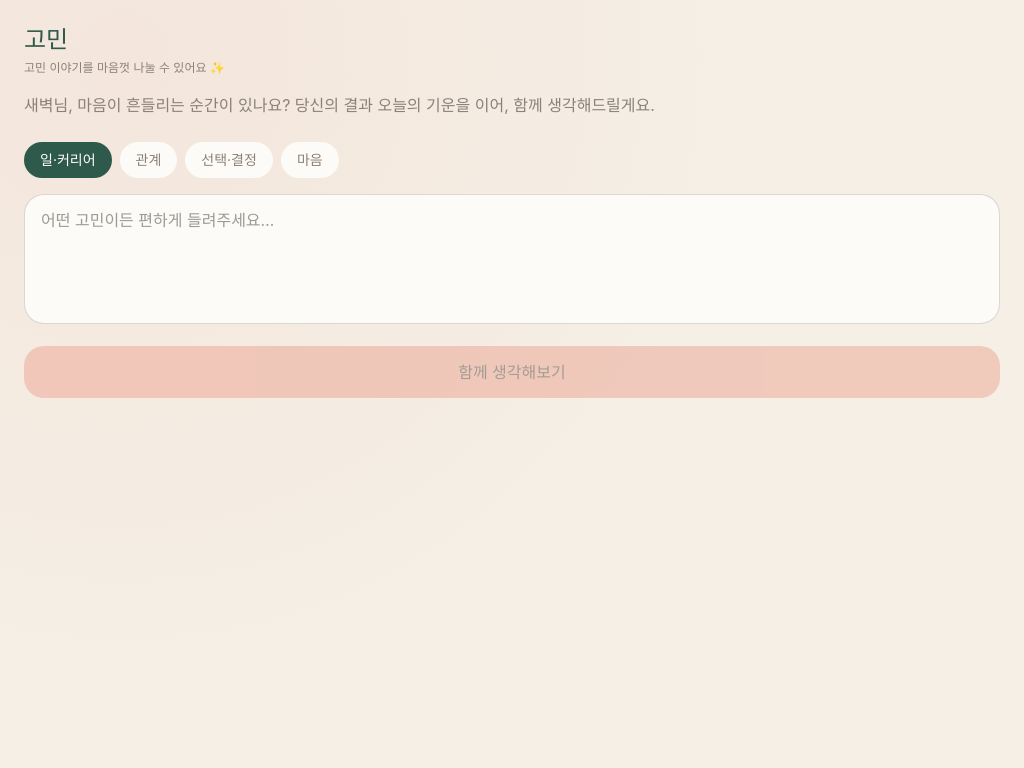
Test: ConcernRoom — 익명 로컬 기록 › 제출하면 프로필 맥락과 함께 submitConcern을 부르고 조언을 렌더한다
The width and height of the screenshot is (1024, 768).
Type "이직 고민" into the text box with placeholder "어떤 고민이든 편하게 들려주세요…" at (512, 259), box [24,194,1000,324]
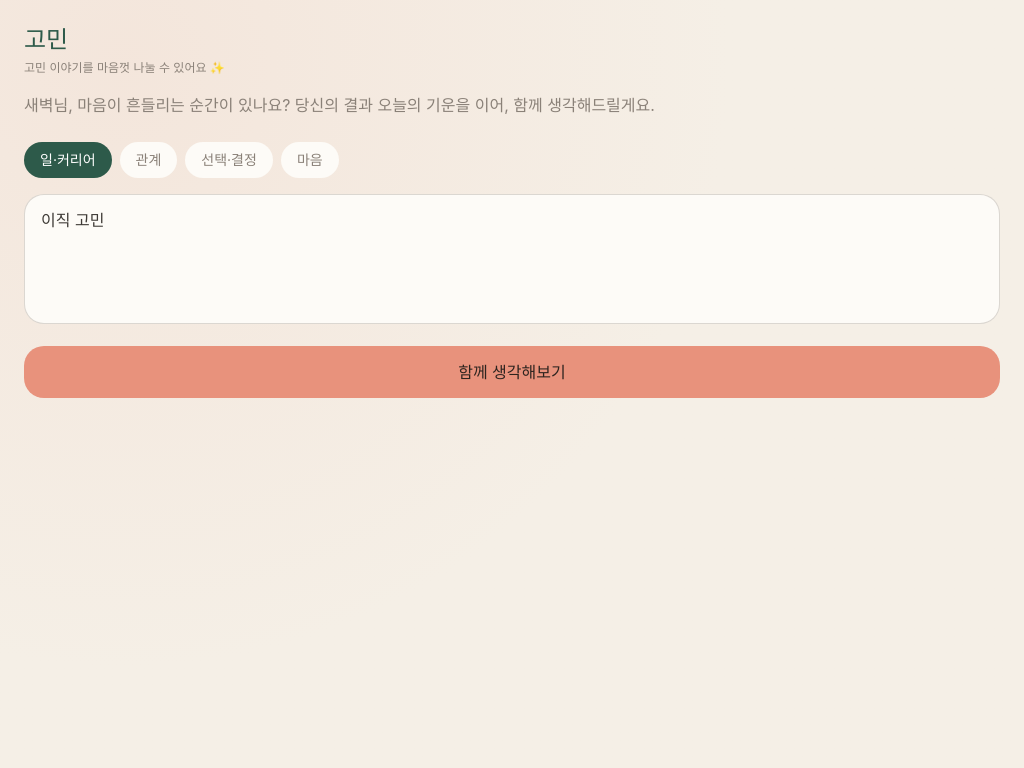
Click the button "함께 생각해보기" at (512, 372), box [24,346,1000,398]
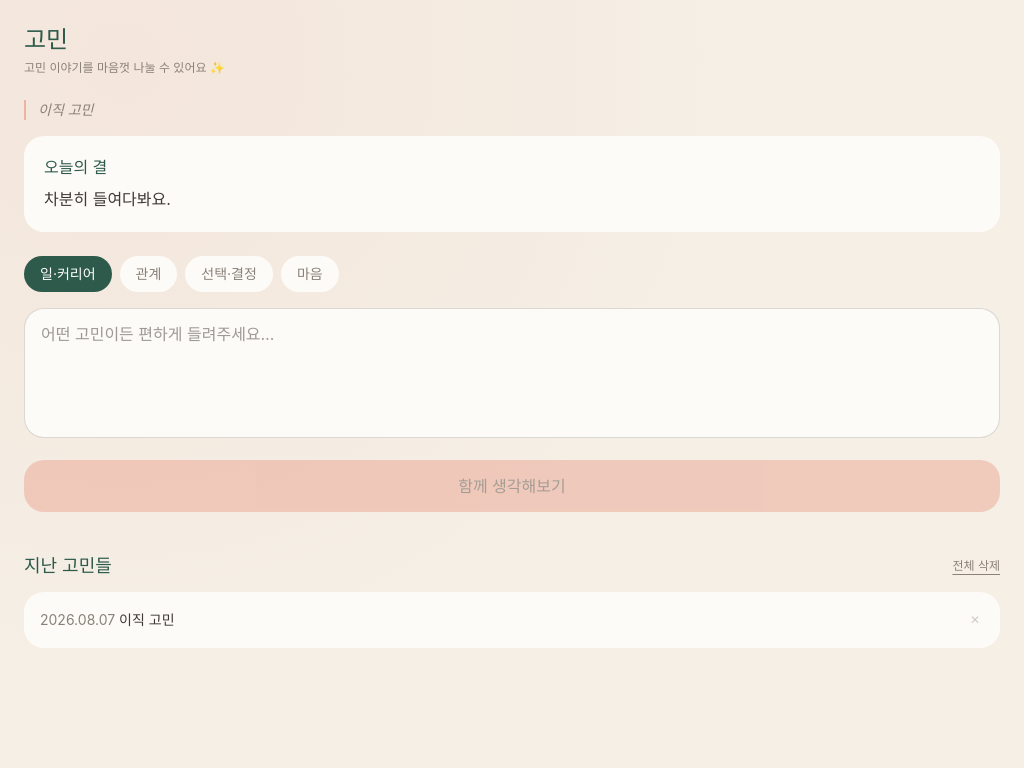
Expected: the text "차분히 들여다봐요." is shown, [44,189,171,209]
